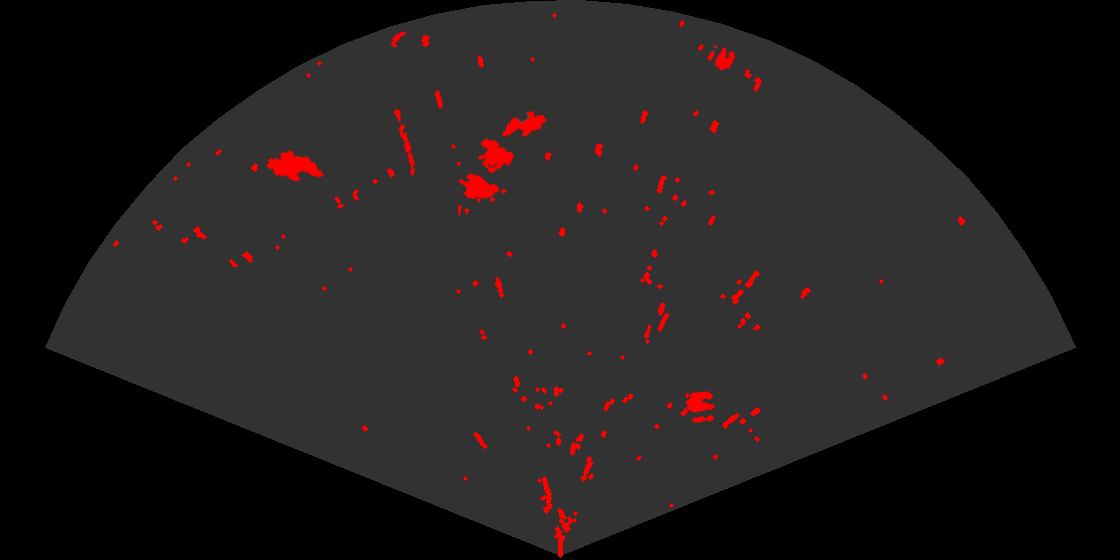AUV: (264, 149, 326, 183), (501, 109, 548, 138)
ball: (684, 390, 717, 424), (706, 43, 737, 72)
cage: (457, 136, 516, 215)
chain: (392, 104, 417, 178)
